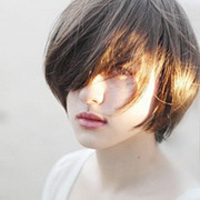face: (60, 15, 161, 146)
